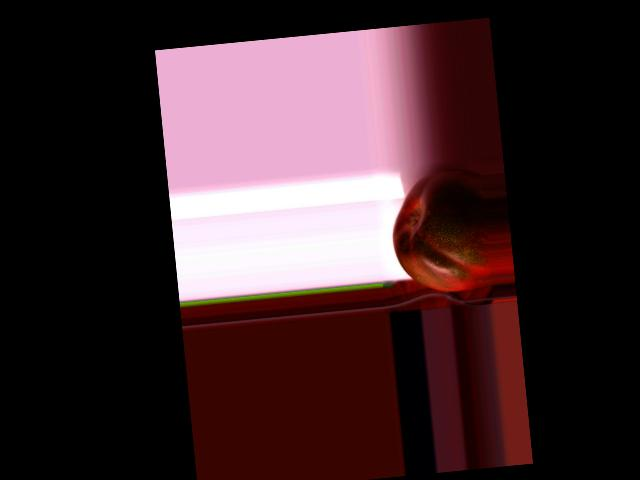tomato: (387, 166, 493, 297)
